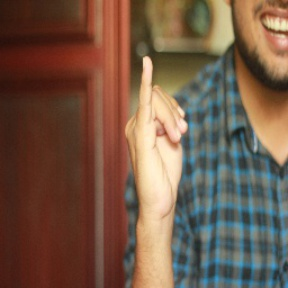I: (122, 54, 190, 221)
